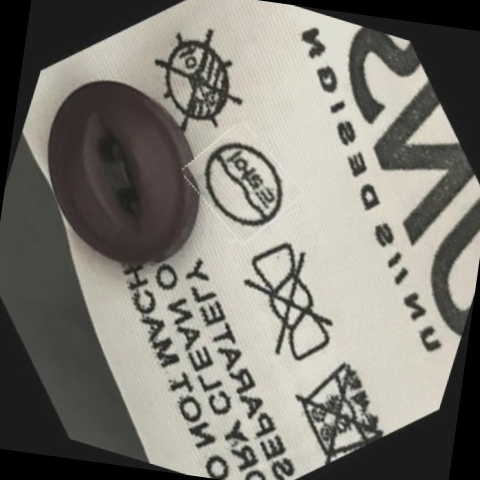DN_dry: (139, 21, 257, 141)
DN_wring: (222, 238, 355, 371)
dry_clean: (189, 129, 296, 239)
hand_wash: (283, 346, 396, 467)
